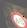Speed Limit -60-: (7, 8, 27, 28)
